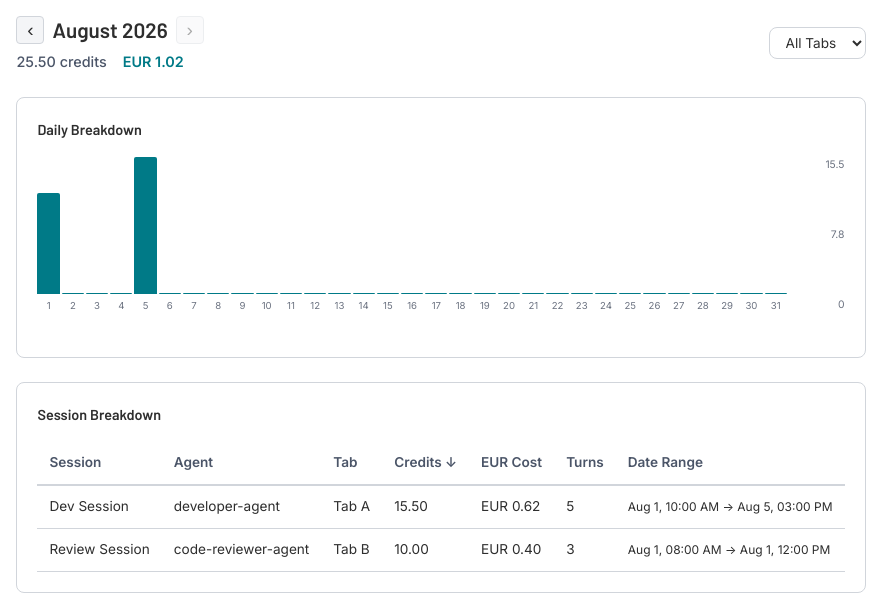
Test case: UsagePanel › filters totals and sessions from cache when tab changes, without refetching
expect the text "25.50 credits" is shown: met, box left=16, top=50, right=107, bottom=73
# Select Tab B — only the Review Session (tabId 2, 10.0 credits) remains.
Select "Tab B" in the dropdown named "Filter by tab" at (817, 43), box left=768, top=27, right=866, bottom=59
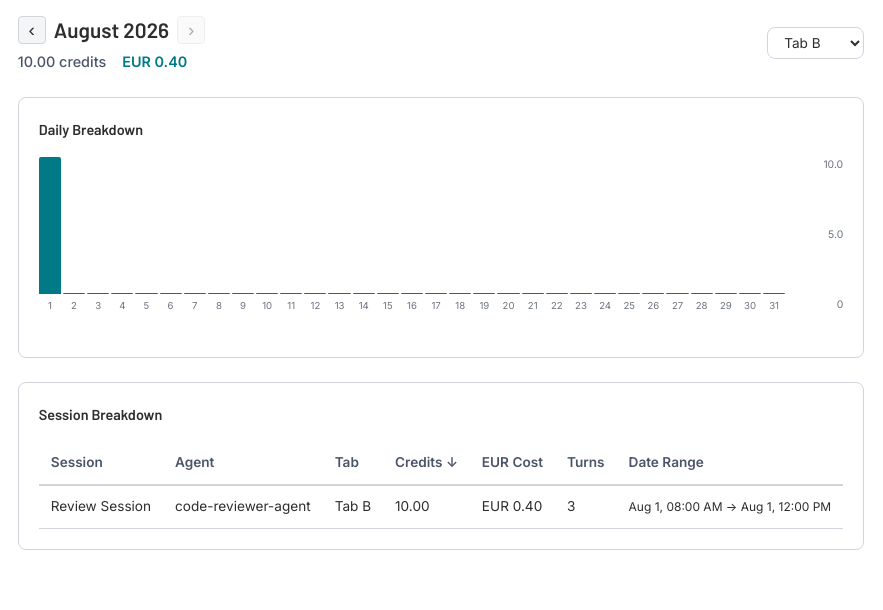
expect the text "Review Session" is shown: met, box left=39, top=485, right=163, bottom=528
expect the text "10.00 credits" is shown: met, box left=18, top=50, right=106, bottom=73
expect the button "Dev Session" is gone: met
